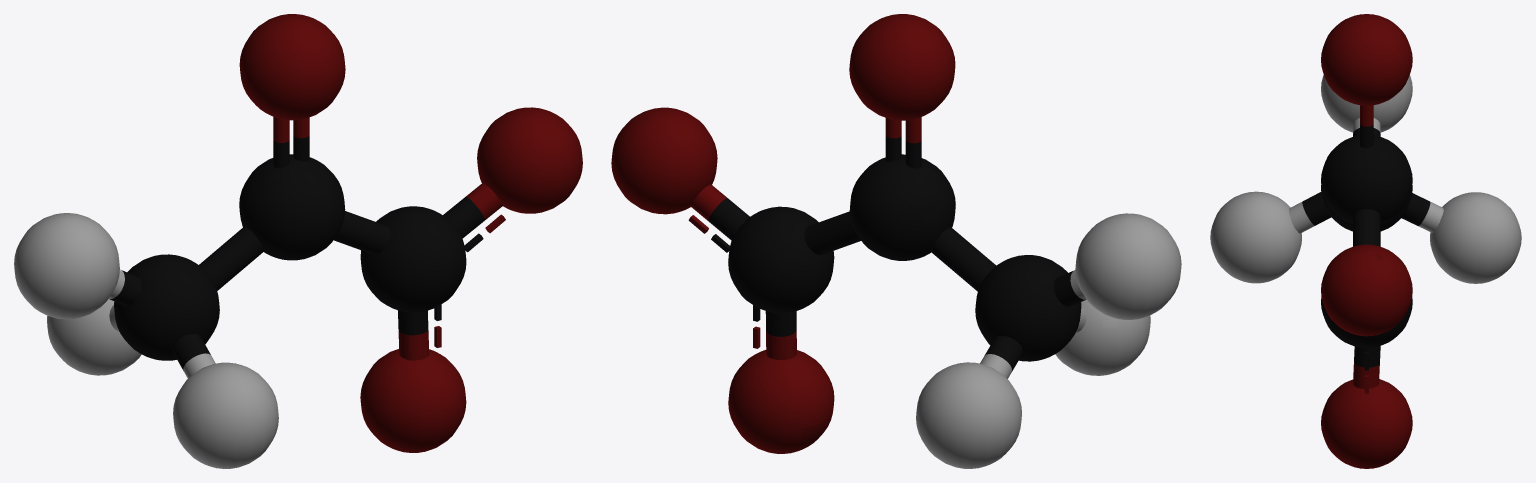
File: pyruvate.glb
3 renders of one model, left to right at view 1: azimuth 30°, elevation 25°; view 2: azimuth 150°, elevation 25°; view 3: azimuth 270°, elevation 25°, orthographic. The views are drawn at different scales.
Parts seen in each view (by area): view 1: pSphere4, pSphere7, pSphere8, pSphere6, pSphere5, pSphere3, pSphere2, pSphere1, pSphere10, pCylinder1, pCylinder27, pCylinder2 (+5 smaller); view 2: pSphere7, pSphere4, pSphere10, pSphere6, pSphere5, pSphere3, pSphere2, pSphere1, pSphere8, pCylinder1, pCylinder27, pCylinder2 (+5 smaller); view 3: pSphere4, pSphere6, pSphere10, pSphere8, pSphere5, pSphere3, pSphere7, pSphere2, pCylinder19, pCylinder28, pCylinder2, pCylinder25 (+2 smaller).
Part boxes in pixels (x1,y1,x2,y2): pSphere4: [239, 14, 345, 120]; pSphere7: [14, 213, 119, 319]; pSphere8: [173, 362, 278, 468]; pSphere6: [477, 107, 582, 213]; pSphere5: [360, 349, 466, 452]; pSphere3: [239, 154, 345, 260]; pSphere2: [360, 206, 466, 312]; pSphere1: [114, 254, 219, 360]; pSphere10: [47, 299, 141, 375]; pCylinder1: [199, 226, 264, 290]; pCylinder27: [443, 183, 503, 238]; pCylinder2: [334, 211, 390, 254]; pSphere7: [1075, 213, 1181, 319]; pSphere4: [849, 14, 955, 120]; pSphere10: [916, 362, 1021, 468]; pSphere6: [611, 107, 717, 214]; pSphere5: [728, 350, 834, 453]; pSphere3: [849, 154, 955, 260]; pSphere2: [728, 206, 834, 313]; pSphere1: [975, 255, 1081, 361]; pSphere8: [1055, 299, 1150, 375]; pCylinder1: [930, 227, 995, 291]; pCylinder27: [690, 184, 749, 240]; pCylinder2: [804, 211, 861, 255]; pSphere4: [1321, 14, 1412, 105]; pSphere6: [1321, 244, 1412, 336]; pSphere10: [1430, 192, 1521, 283]; pSphere8: [1210, 191, 1301, 283]; pSphere5: [1321, 379, 1412, 468]; pSphere3: [1321, 135, 1412, 223]; pSphere7: [1321, 75, 1412, 132]; pSphere2: [1321, 297, 1412, 347]; pCylinder19: [1289, 192, 1331, 233]; pCylinder28: [1401, 193, 1443, 232]; pCylinder2: [1353, 209, 1380, 246]; pCylinder25: [1353, 346, 1380, 388].
Size of the model in its own units: 1.2 by 0.9503 by 0.6779.
